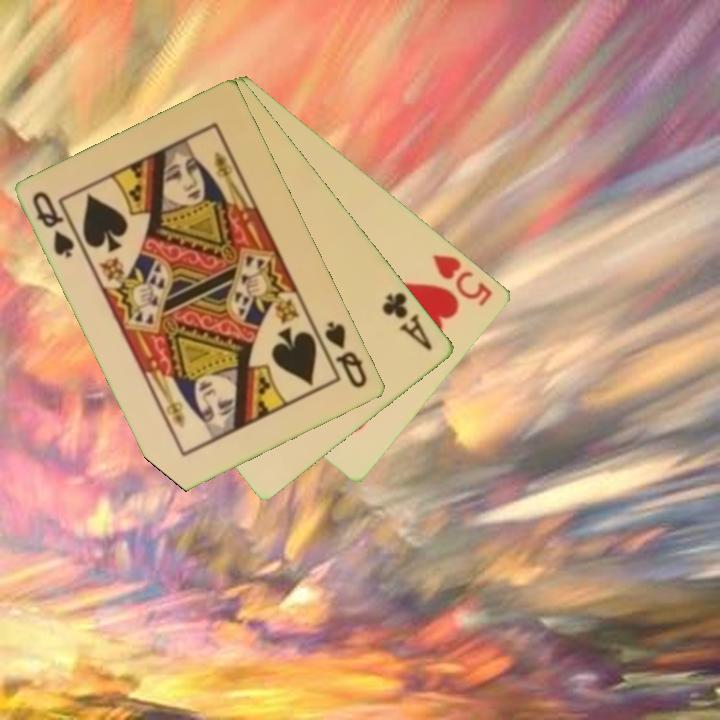5h: (429, 250, 496, 309)
Ac: (378, 288, 436, 354)
Qs: (29, 188, 86, 261), (321, 317, 371, 392)
